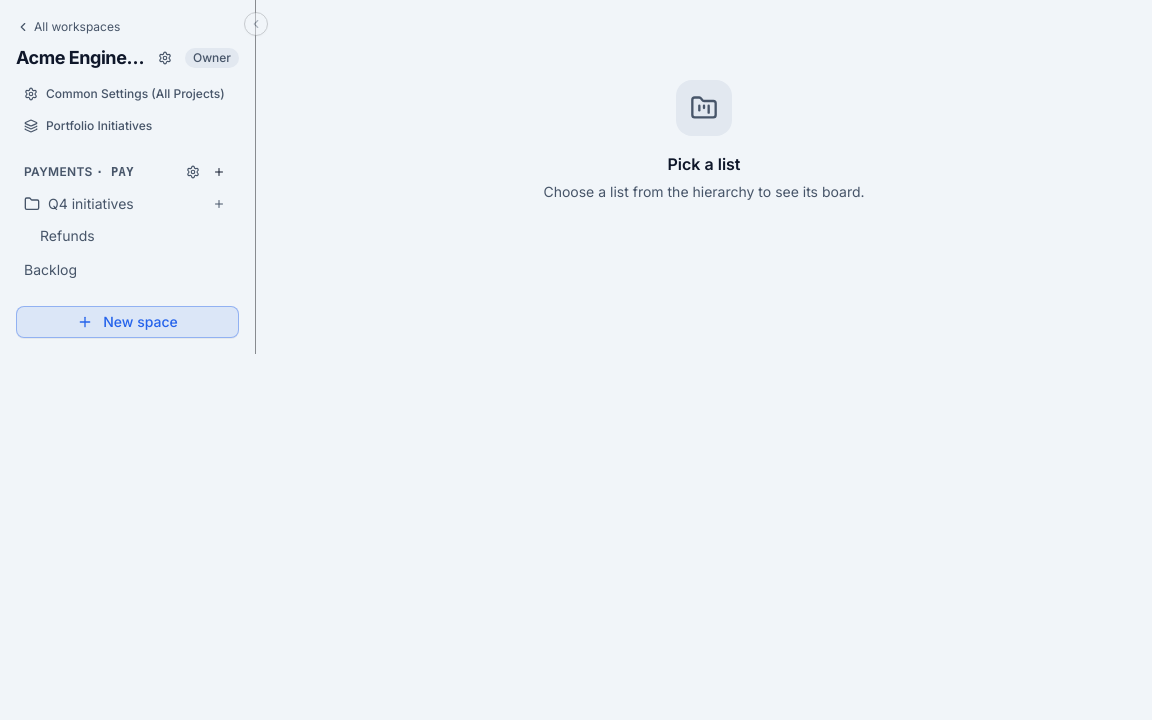
Scenario: <Workspace> › creates a list inside a folder and opens it
The width and height of the screenshot is (1152, 720).
Expected: the heading "Acme Engineering" is shown, [16,44,147,72]
Step 1. Click the button named "New list in Q4 initiatives" → (219, 204), box [207,192,231,216]
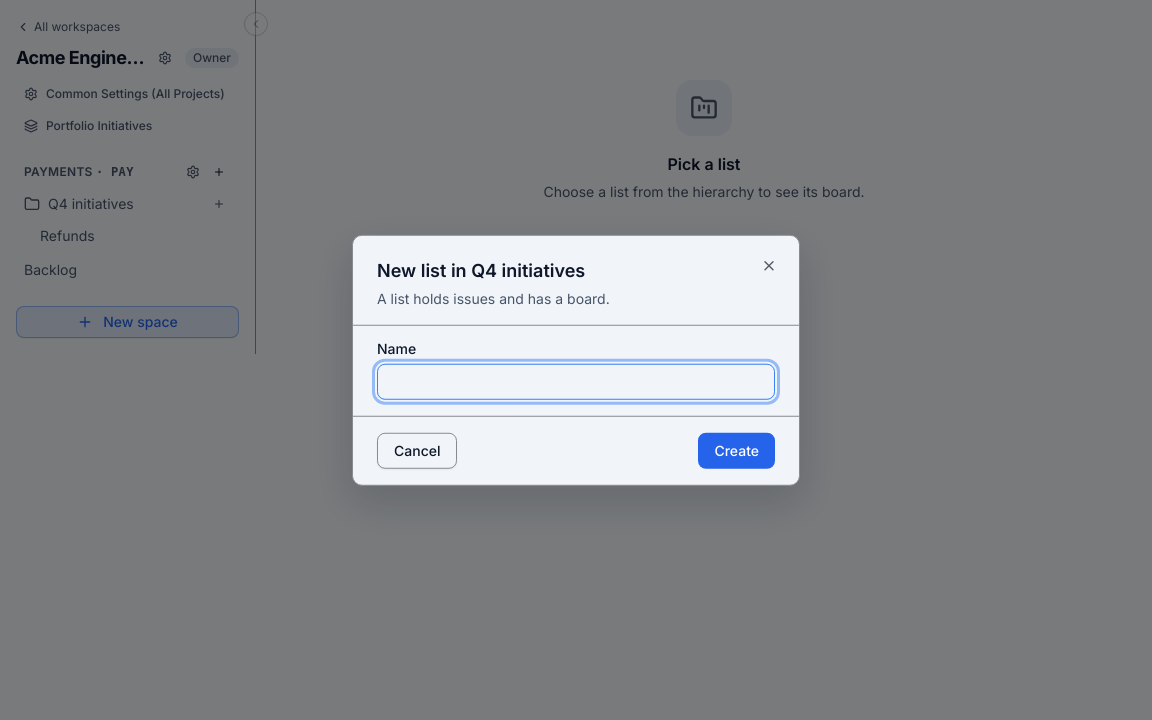
Step 2. Type "Chargebacks" into the field labelled "Name" → (576, 381), box [377,363,775,399]
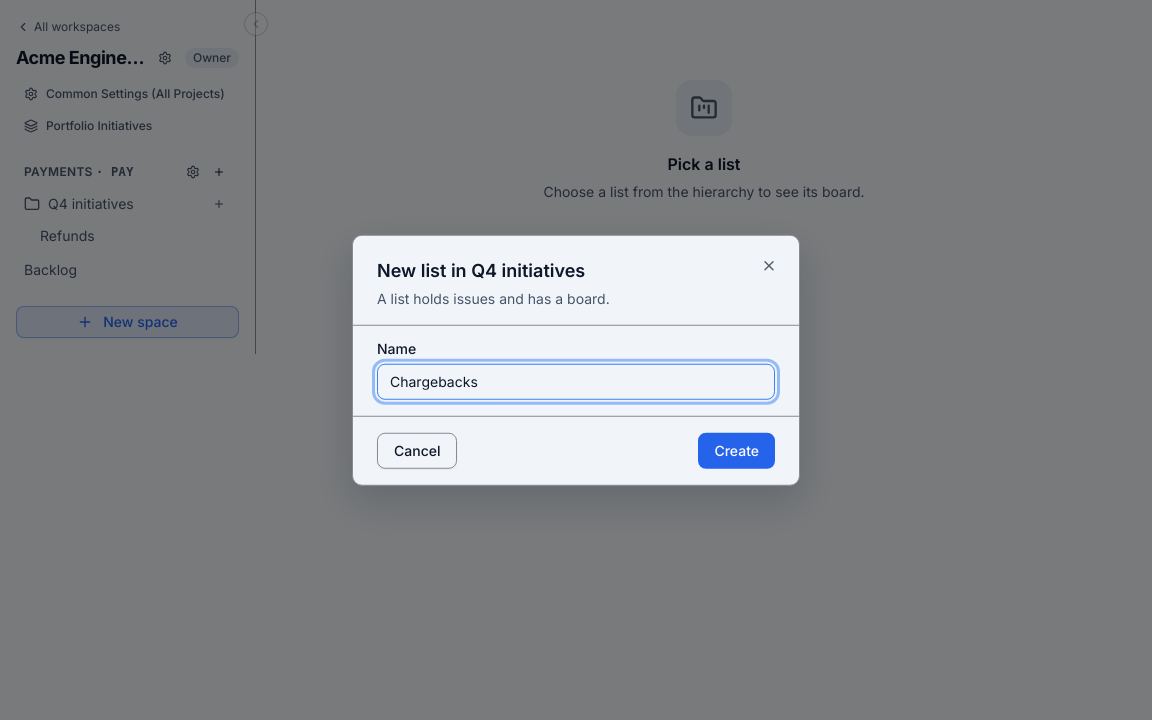
Step 3. Click the button "Create" → (737, 450), box [698,432,775,468]
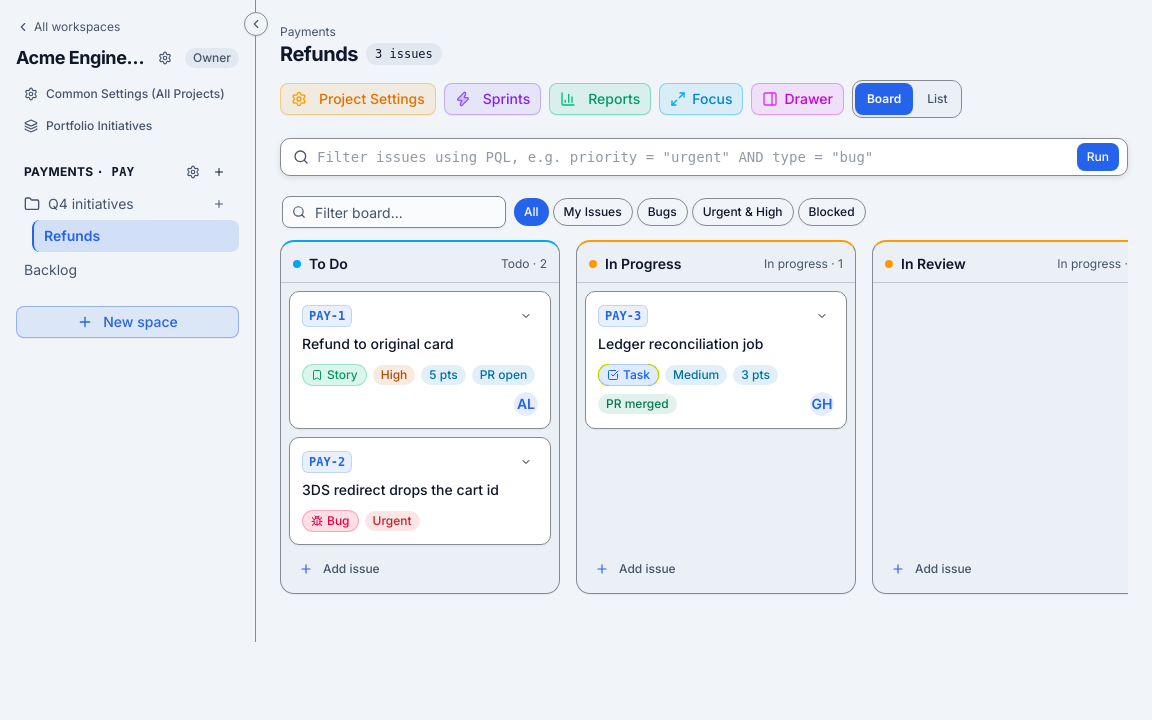
Now the heading "Refunds" is shown, box [280,40,358,68]
